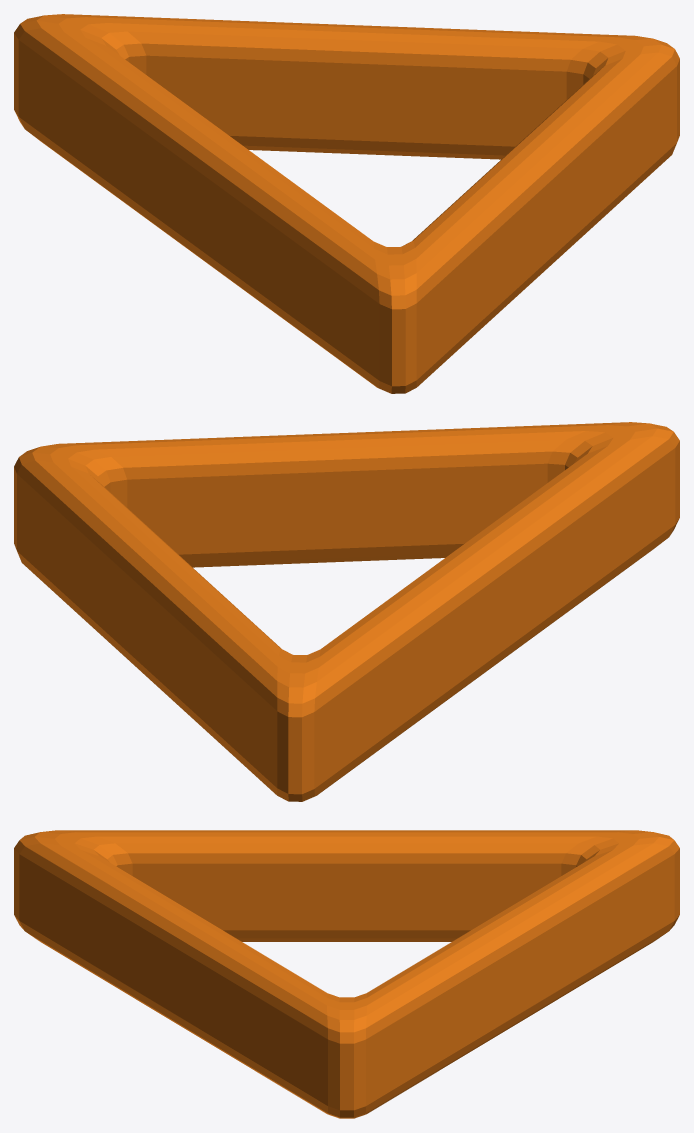
The model's file is outputArrow.fbx.
3 views of the same model, one above another, from view 1: azimuth 30°, elevation 25°; view 2: azimuth 150°, elevation 25°; view 3: azimuth 270°, elevation 25° (orthographic). The views are drawn at different scales.
Parts seen in each view (by area): view 1: Cube; view 2: Cube; view 3: Cube.
Part boxes in pixels (box(x1,y1,x2,y2)): Cube: box(14, 14, 679, 393); Cube: box(14, 422, 679, 801); Cube: box(14, 830, 679, 1118).
Size of the model in its own units: 39.96 by 9.57 by 55.77.
